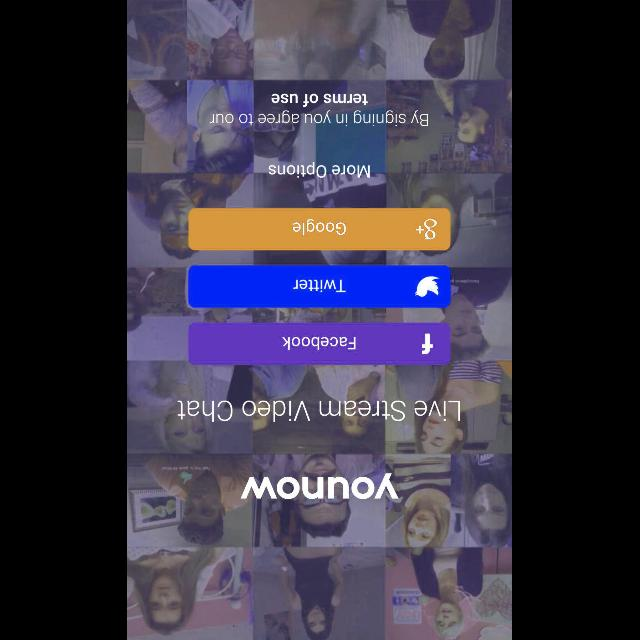backgroundimage: (128, 1, 512, 640)
text: (210, 93, 428, 127), (178, 400, 460, 422), (242, 472, 401, 500), (269, 162, 371, 178)
textbutton: (189, 264, 451, 308), (189, 323, 451, 365), (189, 208, 451, 250)
